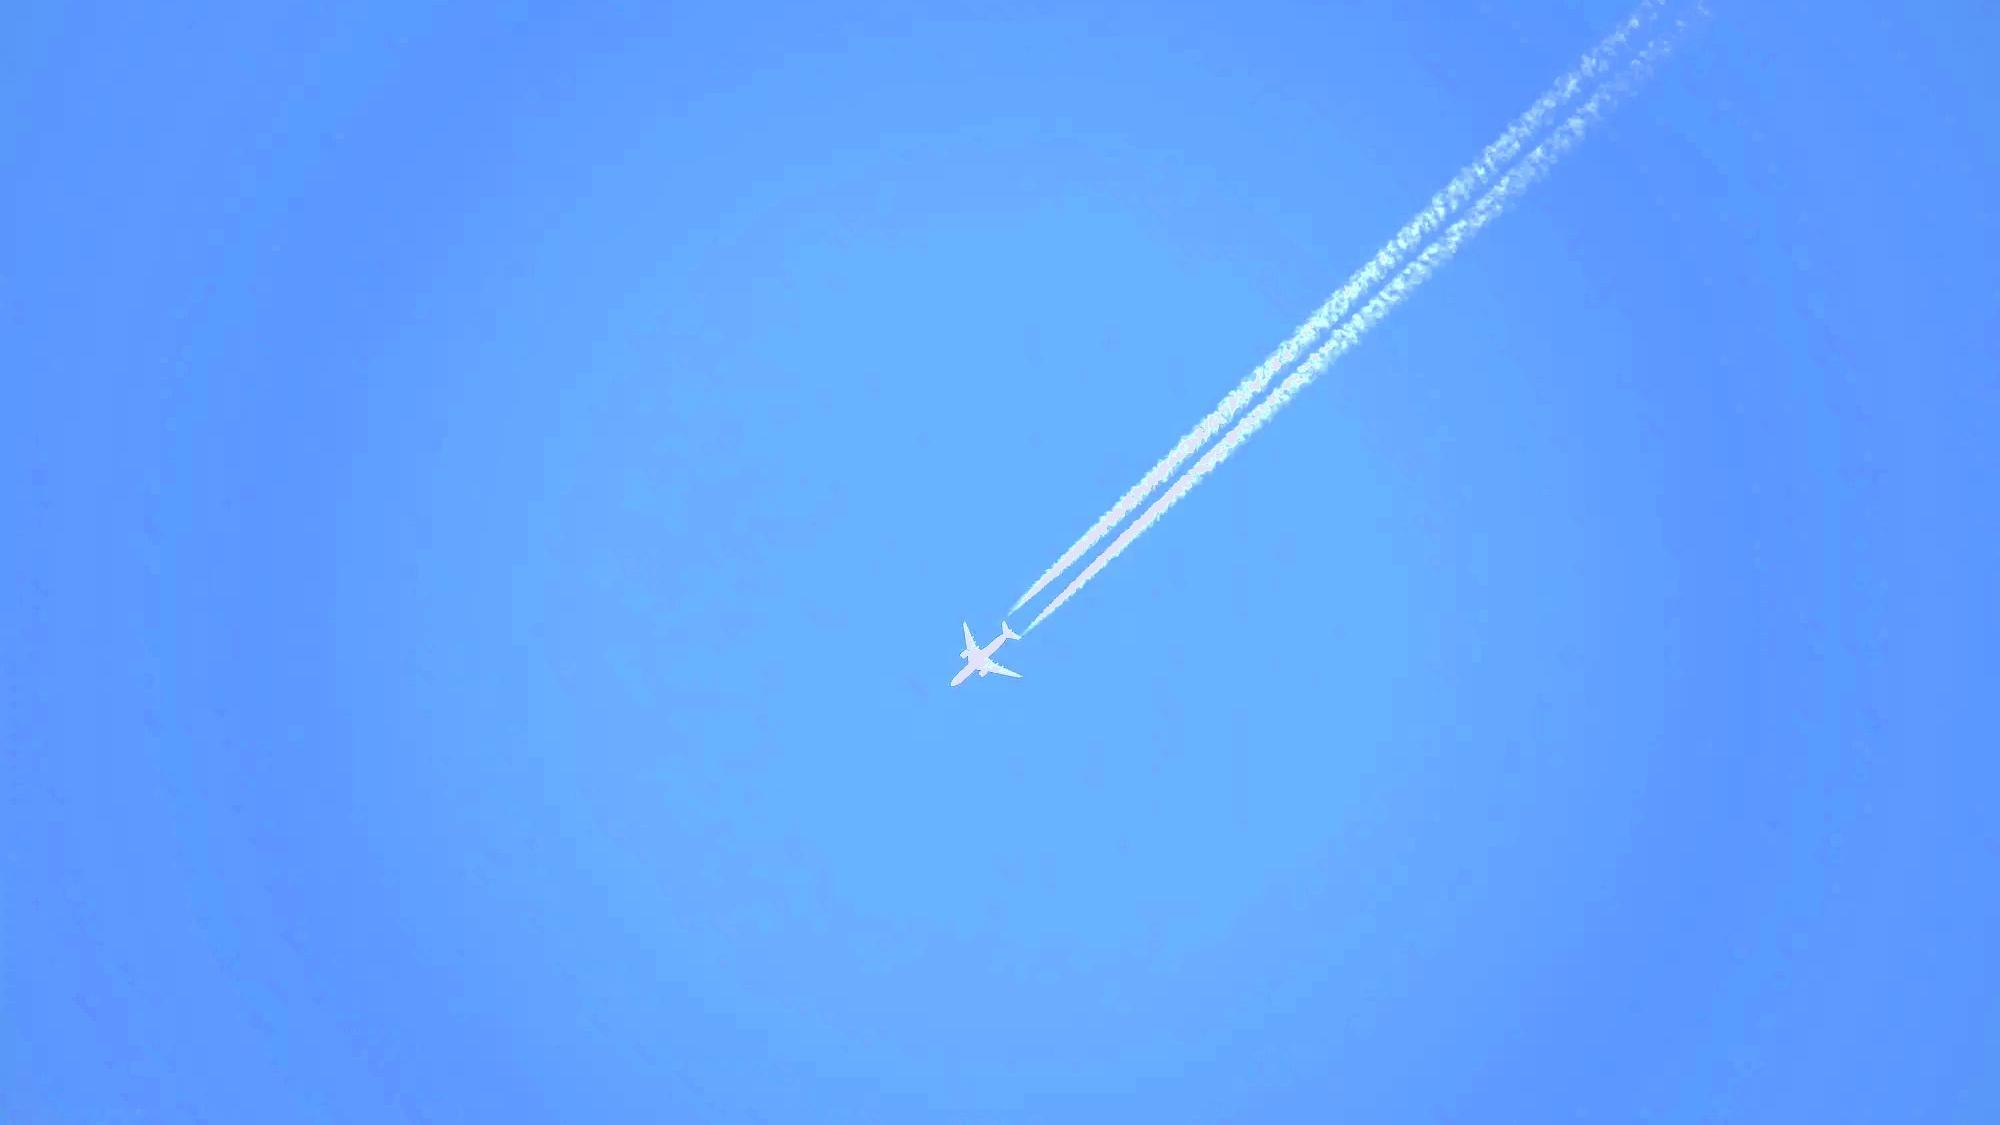Plane: (957, 96, 1536, 731)
